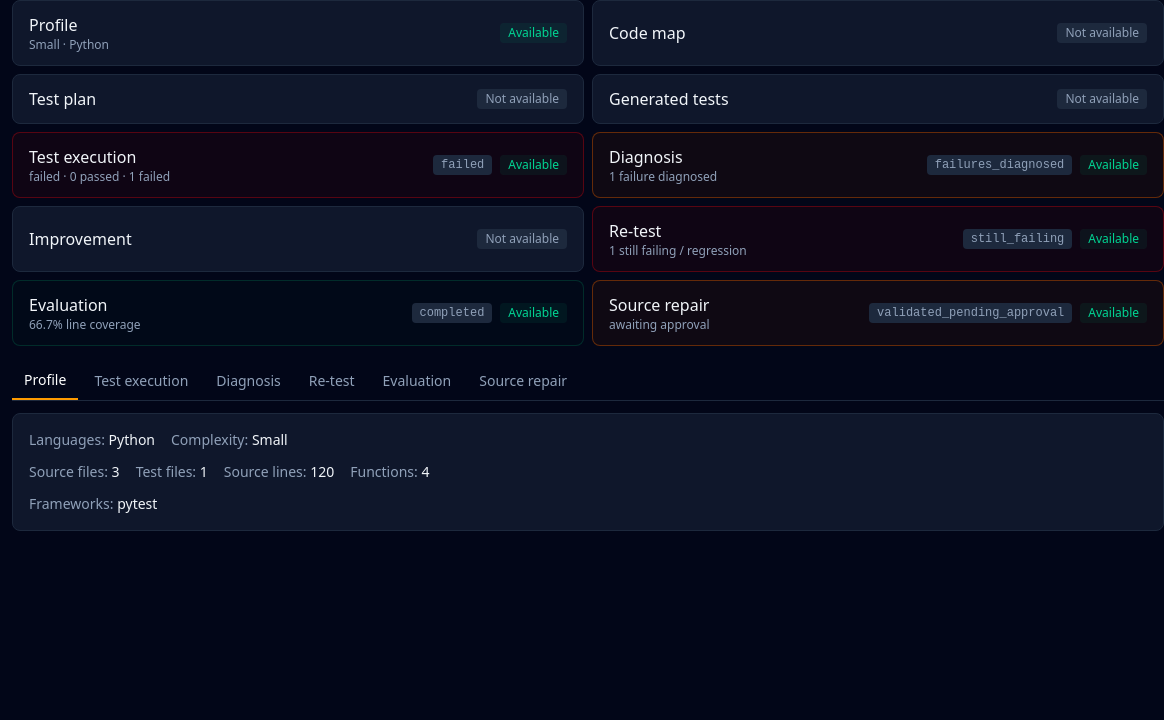
Test case: ArtifactsTabs › renders per-test rows with statuses when structured data exists
The width and height of the screenshot is (1164, 720).
Click the tab "Test execution" at (141, 381), box x1=82 y1=362 x2=200 y2=400
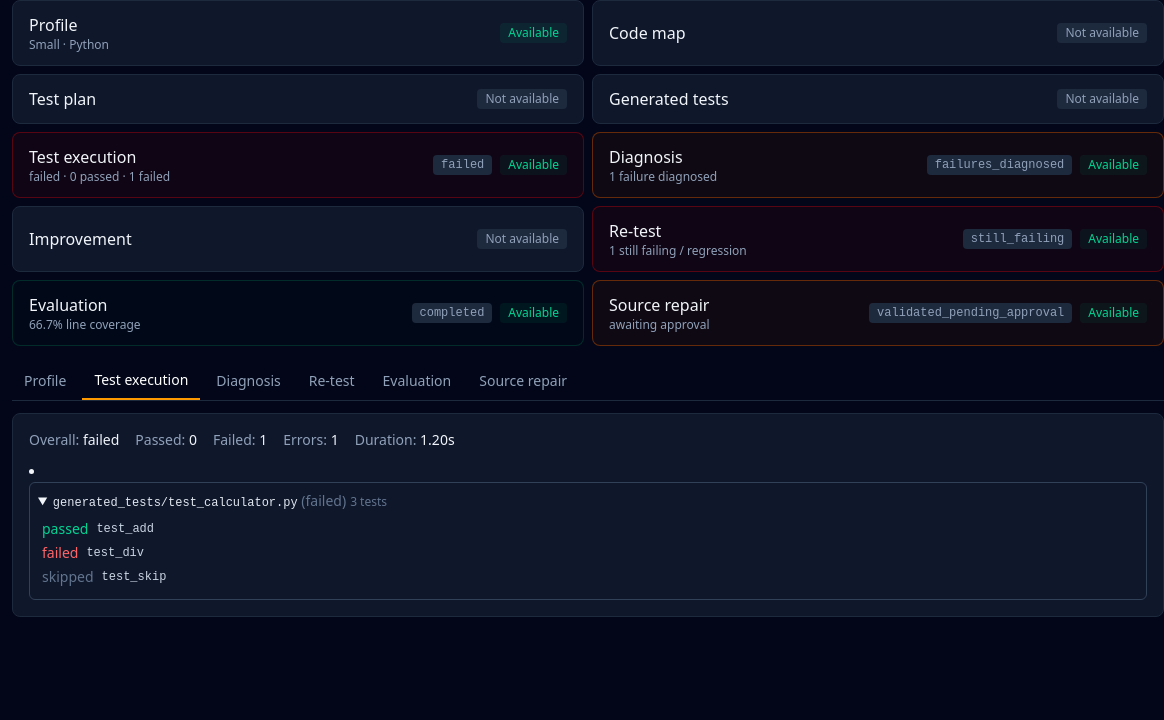
expect the text "test_add" is shown: met, box x1=96 y1=521 x2=154 y2=537
expect the text "test_div" is shown: met, box x1=86 y1=545 x2=144 y2=561
expect the text "test_skip" is shown: met, box x1=102 y1=569 x2=166 y2=585
